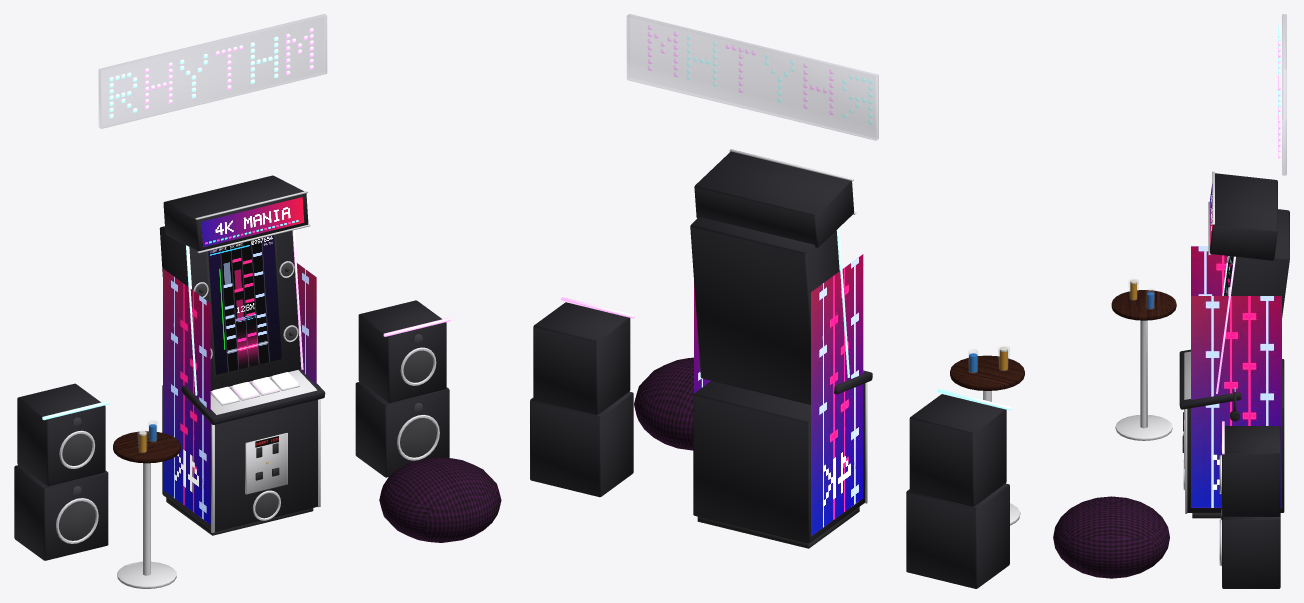
File: rhythm.glb
3 views of the same model, side by side, from view 1: azimuth 30°, elevation 25°; view 2: azimuth 150°, elevation 25°; view 3: azimuth 270°, elevation 25° (orthographic). The views are drawn at different scales.
Visible parts, largest first — view 1: Cabinet black, Neon backer, Cabinet art, Cabinet chrome, Screen, Beanbag, Woofer cone, Marquee, LED pink, LED cyan, Speaker grill, Table top; view 2: Cabinet black, Neon backer, Cabinet art, Beanbag, Table top, LED cyan, LED pink, Cabinet chrome, Speaker grill; view 3: Cabinet black, Cabinet art, Beanbag, Cabinet chrome, Table top, Neon backer, LED pink.
Boxes of the visible parts, x1,y1,x2,y2 form: Cabinet black: (14,175,449,560); Neon backer: (99,14,326,128); Cabinet art: (163,263,316,524); Cabinet chrome: (56,191,439,588); Screen: (208,235,281,374); Beanbag: (379,457,501,542); Woofer cone: (58,263,436,540); Marquee: (201,197,304,247); LED pink: (144,28,450,369); LED cyan: (42,36,278,420); Speaker grill: (166,234,313,535); Table top: (113,431,180,463); Cabinet black: (530,151,1009,588); Neon backer: (627,14,878,140); Cabinet art: (694,254,863,536); Beanbag: (634,357,693,450); Table top: (950,355,1024,390); LED cyan: (686,34,1011,410); LED pink: (561,25,833,318); Cabinet chrome: (729,149,1020,525); Speaker grill: (697,507,859,548); Cabinet black: (1179,173,1289,588); Cabinet art: (1191,246,1281,507); Beanbag: (1053,496,1169,578); Cabinet chrome: (1115,171,1235,565); Table top: (1111,290,1176,320); Neon backer: (1282,14,1286,175); LED pink: (1216,41,1280,454).
Size of the model in its own units: 3.46 by 3.74 by 1.82.
Materials: 22 (7 with a texture image).
